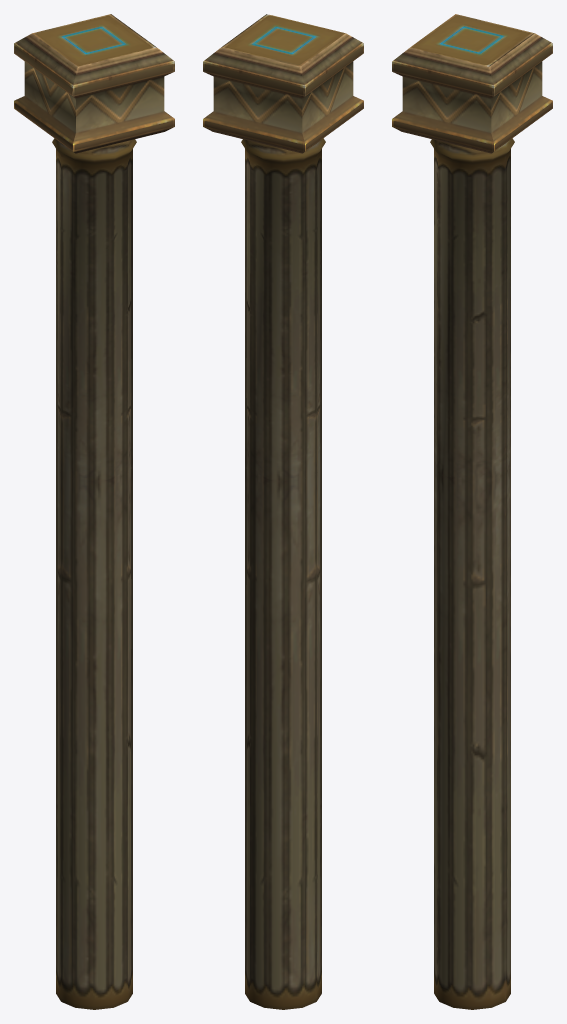
File: Battle04_Column_01.FBX
3 views of the same model, side by side, from view 1: azimuth 30°, elevation 25°; view 2: azimuth 150°, elevation 25°; view 3: azimuth 330°, elevation 25° (orthographic).
Visible parts, largest first — view 1: Battle04_Column_01; view 2: Battle04_Column_01; view 3: Battle04_Column_01.
Part boxes in pixels (x1,y1,x2,y2): Battle04_Column_01: (14,14,174,1009); Battle04_Column_01: (203,14,363,1009); Battle04_Column_01: (392,14,552,1009).
Bounding box in the file's own units: 4.25 × 37.95 × 4.25.
